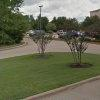Tree: (19, 5, 100, 54)
